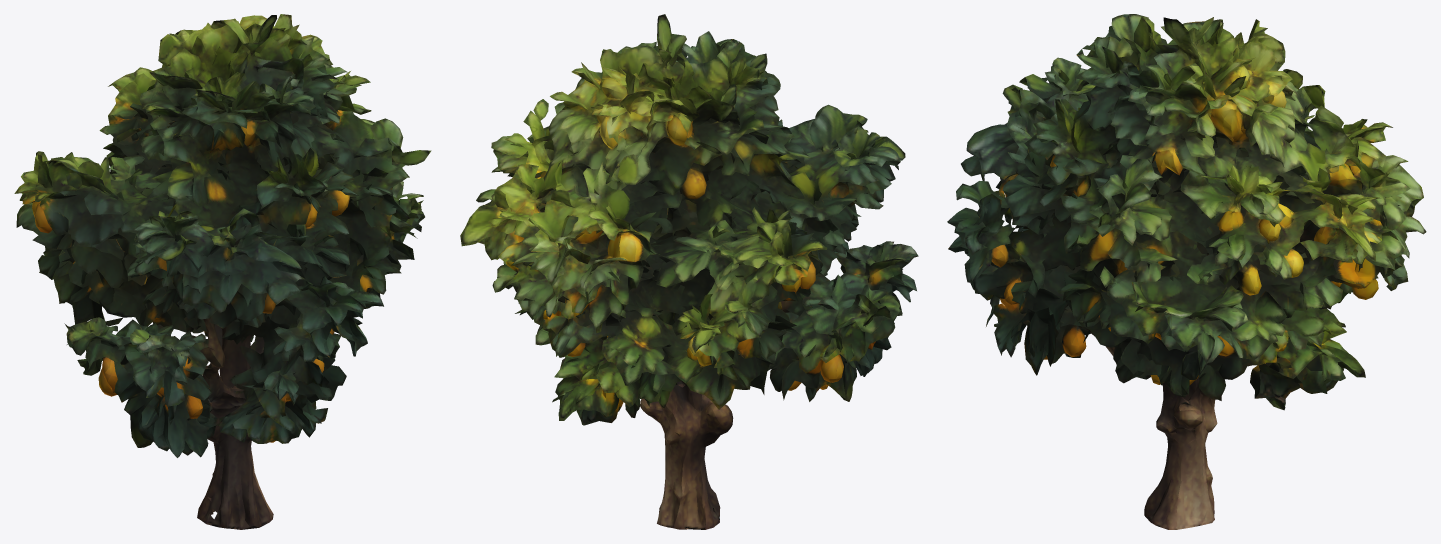
The model's file is veg_citrus.glb.
3 renders of one model, left to right at view 1: azimuth 30°, elevation 25°; view 2: azimuth 150°, elevation 25°; view 3: azimuth 270°, elevation 25°, orthographic. The views are drawn at different scales.
Parts seen in each view (by area): view 1: geometry_0; view 2: geometry_0; view 3: geometry_0.
Part boxes in pixels (x1,y1,x2,y2): geometry_0: (14, 14, 431, 529); geometry_0: (460, 14, 918, 529); geometry_0: (947, 14, 1426, 529).
Bounding box in the file's own units: 3.2 × 4 × 3.38.
Materials: 1 (1 with a texture image).
